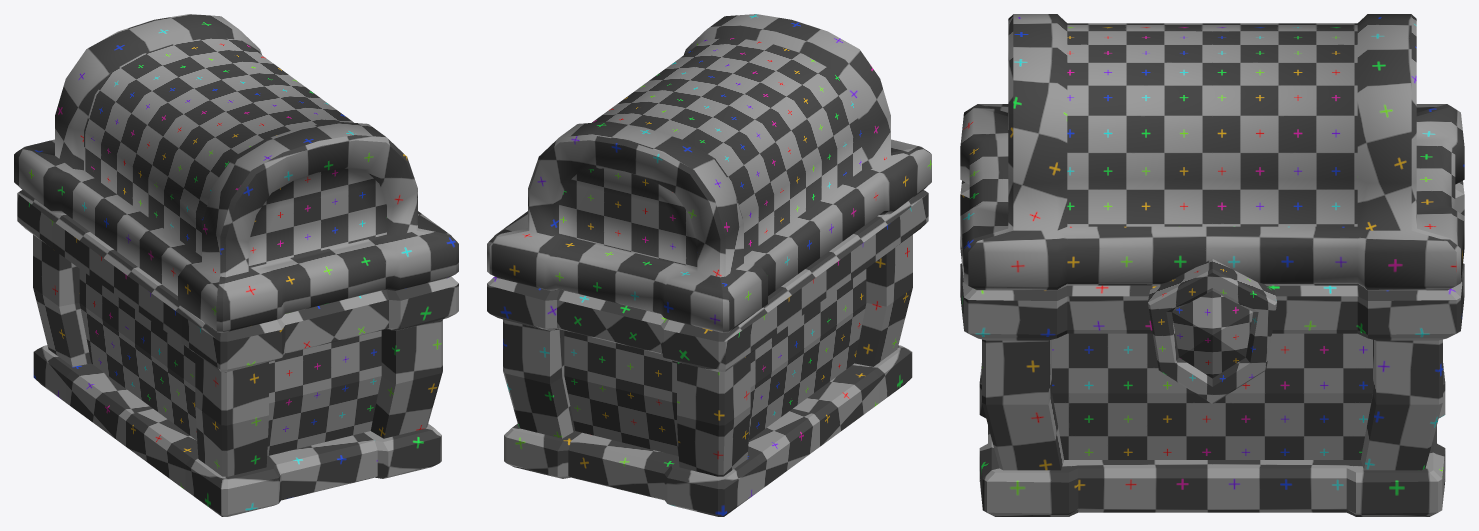
The model's file is treasure_chest.glb.
3 views of the same model, side by side, from view 1: azimuth 30°, elevation 25°; view 2: azimuth 150°, elevation 25°; view 3: azimuth 270°, elevation 25° (orthographic). The views are drawn at different scales.
Visible parts, largest first — view 1: chest_lid, Cylinder; view 2: chest_lid, Cylinder; view 3: chest_lid, Cylinder.
Part boxes in pixels (<box>): chest_lid: <box>14,14,458,332</box>; Cylinder: <box>17,190,458,516</box>; chest_lid: <box>487,14,931,332</box>; Cylinder: <box>487,190,928,516</box>; chest_lid: <box>960,14,1464,290</box>; Cylinder: <box>960,180,1464,516</box>.
Size of the model in its own units: 2.34 by 2.87 by 3.15.
1 material, 1 textured.
